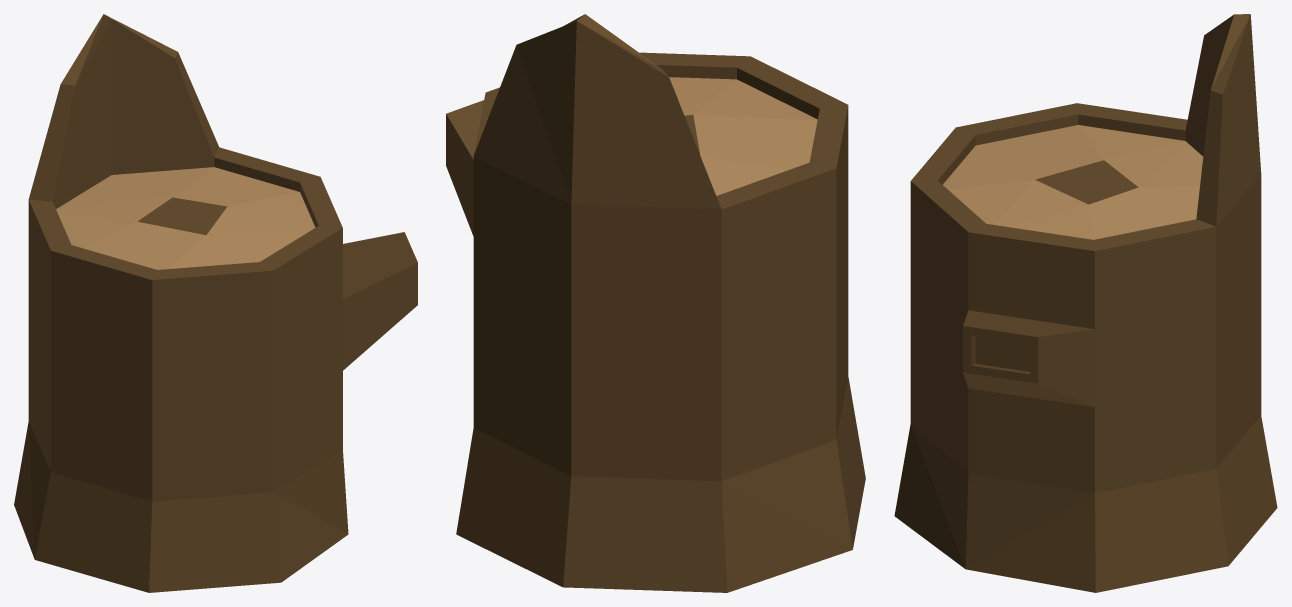
Rendered from Stump_02.fbx.
3 views of the same model, side by side, from view 1: azimuth 30°, elevation 25°; view 2: azimuth 150°, elevation 25°; view 3: azimuth 270°, elevation 25° (orthographic). The views are drawn at different scales.
Visible parts, largest first — view 1: Stump_02; view 2: Stump_02; view 3: Stump_02.
Part boxes in pixels (x1,y1,x2,y2): Stump_02: [14, 14, 417, 592]; Stump_02: [446, 14, 865, 592]; Stump_02: [894, 14, 1277, 592].
Size of the model in its own units: 58.35 by 71.96 by 50.53.
